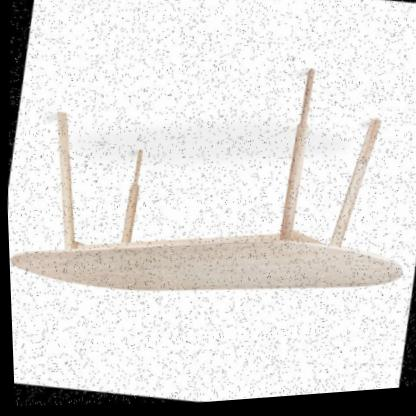Table: (0, 0, 416, 359)
